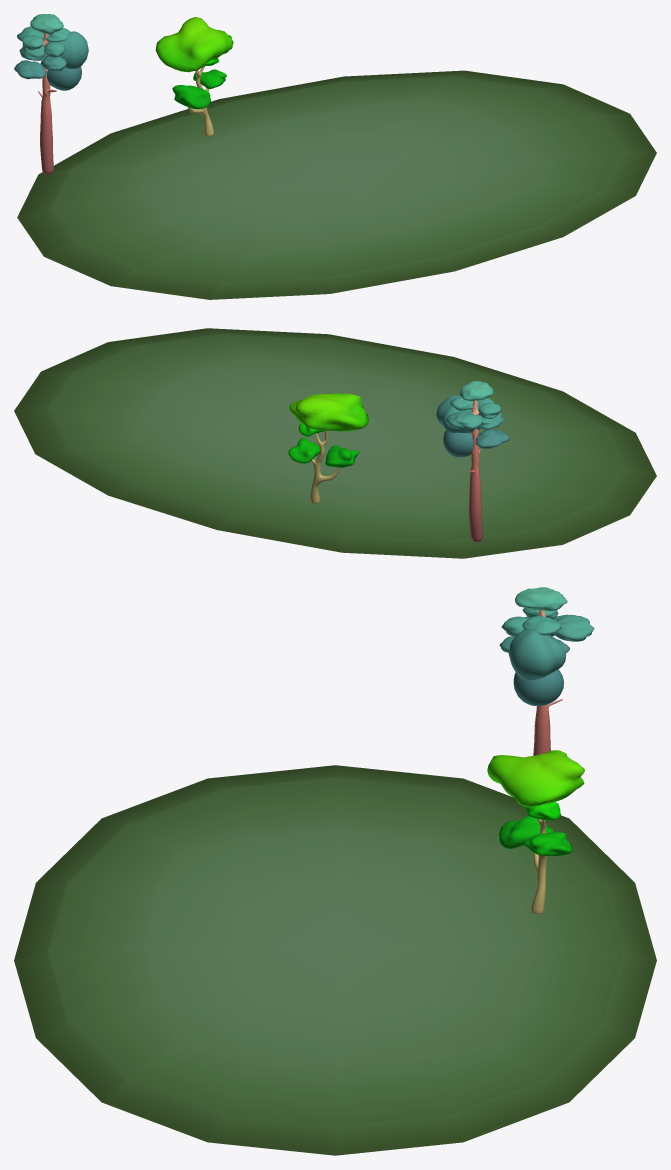
3 views of the same model, one above another, from view 1: azimuth 30°, elevation 25°; view 2: azimuth 150°, elevation 25°; view 3: azimuth 270°, elevation 25° (orthographic). The views are drawn at different scales.
Visible parts, largest first — view 1: Object_9; view 2: Object_9; view 3: Object_9.
Boxes of the visible parts, <box> form: Object_9: <box>14,14,656,299</box>; Object_9: <box>14,328,656,558</box>; Object_9: <box>14,587,656,1155</box>.
Bounding box in the file's own units: 23.62 × 6.39 × 16.44.
Materials: 1 (1 with a texture image).
